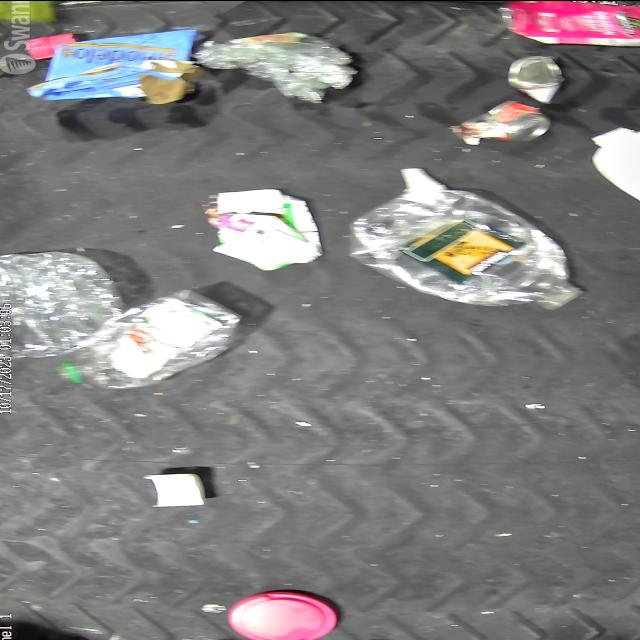can: (452, 100, 552, 142), (506, 56, 564, 104)
milk_jug: (589, 126, 640, 222)
plastic_bottle: (350, 183, 580, 309), (59, 291, 242, 388), (193, 32, 353, 82)
